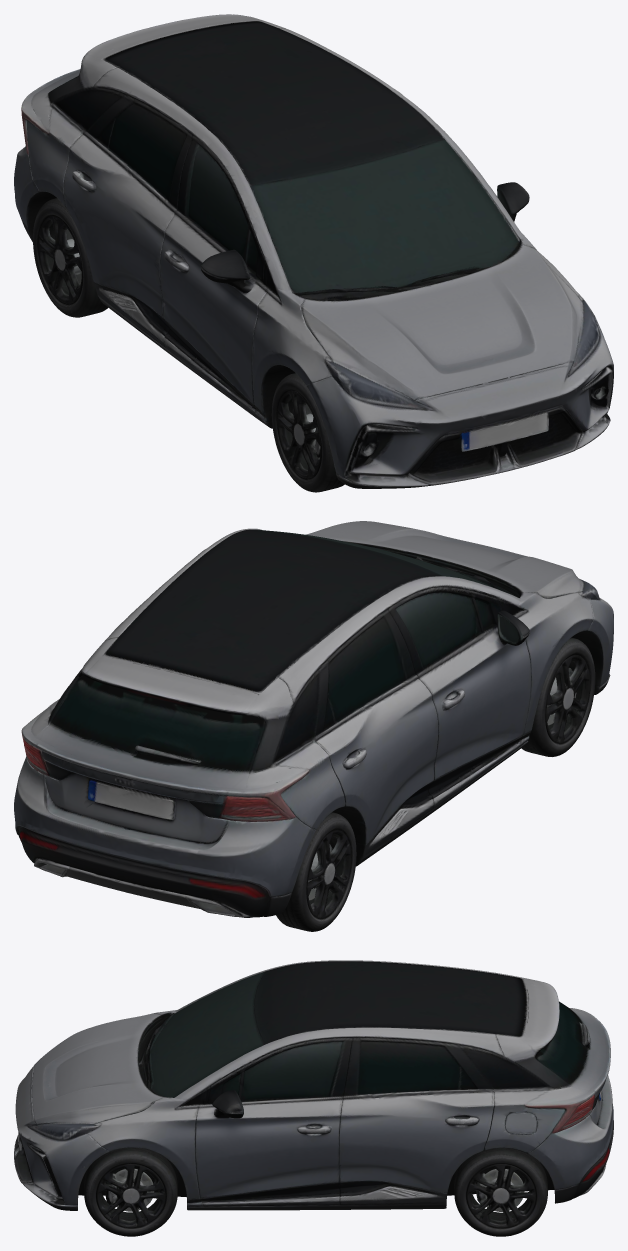
File: car_sedan.glb
The picture shows the model from 3 angles, top to bottom: view 1: azimuth 30°, elevation 25°; view 2: azimuth 150°, elevation 25°; view 3: azimuth 270°, elevation 25°; orthographic projection. The views are drawn at different scales.
Parts seen in each view (by area): view 1: tripo_node_d8eab706-6e00-4dd5-990c-505bb09c3191; view 2: tripo_node_d8eab706-6e00-4dd5-990c-505bb09c3191; view 3: tripo_node_d8eab706-6e00-4dd5-990c-505bb09c3191.
Part boxes in pixels (x1=…): tripo_node_d8eab706-6e00-4dd5-990c-505bb09c3191: x1=14, y1=14, x2=613, y2=492; tripo_node_d8eab706-6e00-4dd5-990c-505bb09c3191: x1=14, y1=521, x2=613, y2=931; tripo_node_d8eab706-6e00-4dd5-990c-505bb09c3191: x1=14, y1=960, x2=613, y2=1236.
Bounding box in the file's own units: 1.98 × 1.5 × 4.12.
Materials: 1 (1 with a texture image).
